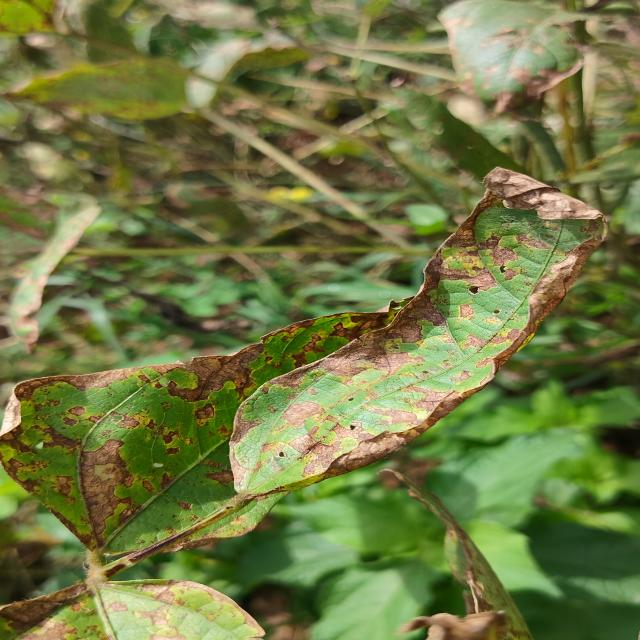Black gram_leaf spot: (219, 162, 603, 503), (0, 293, 415, 557)
